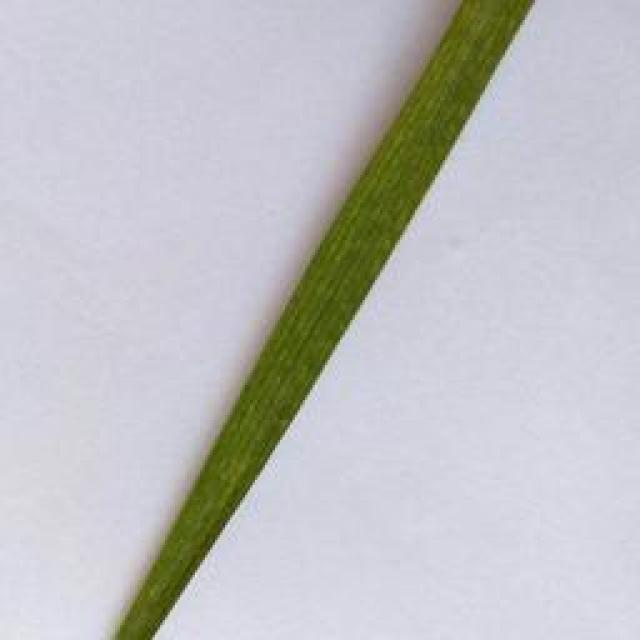Healthy-Plant: (115, 0, 533, 640)
